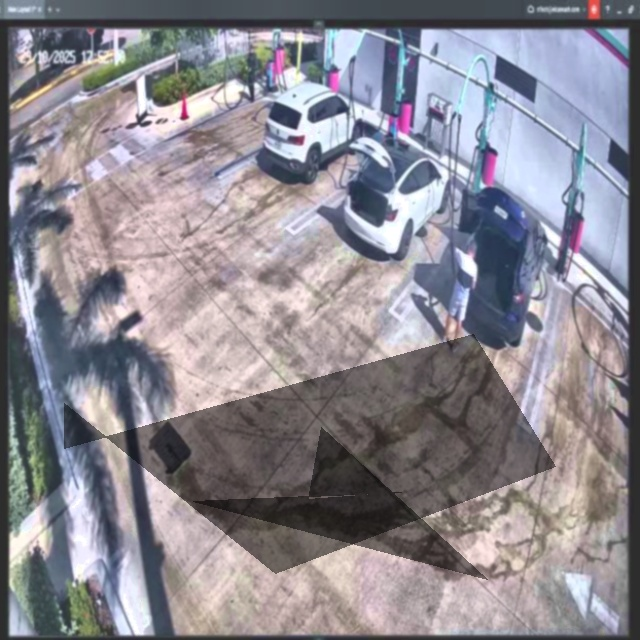Car: (457, 188, 546, 341), (345, 137, 450, 261), (256, 78, 362, 179)
